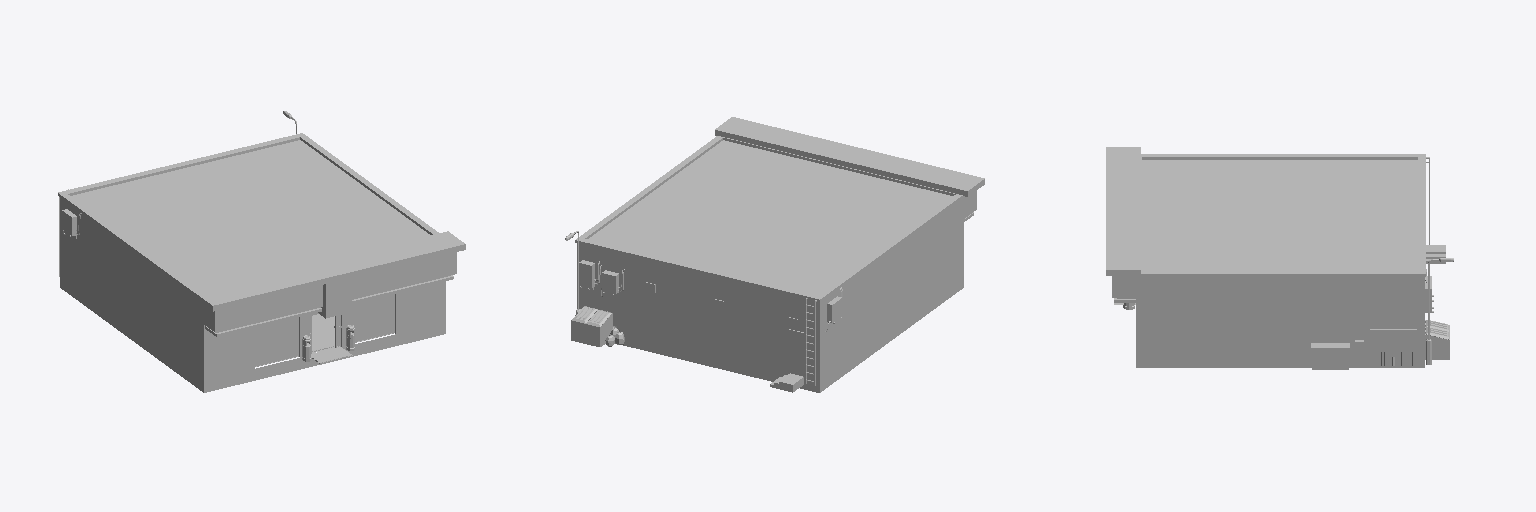
Rendered from Shop.obj.
3 renders of one model, left to right at view 1: azimuth 30°, elevation 25°; view 2: azimuth 150°, elevation 25°; view 3: azimuth 270°, elevation 25°, orthographic.
Parts seen in each view (by area): view 1: 6twelve_Concrete_0, 6twelve_Metal_02_0, 6twelve_Sign_0, Glasses_Glass_0, 6twelve_6twelve_0, Plane; view 2: 6twelve_Concrete_0, 6twelve_Metal_02_0, Dump_Metal_09_0; view 3: 6twelve_Concrete_0, 6twelve_Metal_02_0, 6twelve_Sign_0.
Part boxes in pixels (x1,y1,x2,y2): 6twelve_Concrete_0: (58, 111, 445, 392); 6twelve_Metal_02_0: (195, 231, 465, 336); 6twelve_Sign_0: (203, 252, 456, 332); Glasses_Glass_0: (255, 294, 393, 366); 6twelve_6twelve_0: (327, 279, 349, 316); Plane: (279, 314, 373, 361); 6twelve_Concrete_0: (565, 136, 964, 392); 6twelve_Metal_02_0: (715, 117, 984, 221); Dump_Metal_09_0: (571, 307, 612, 346); 6twelve_Concrete_0: (1134, 154, 1453, 369); 6twelve_Metal_02_0: (1106, 147, 1140, 302); 6twelve_Sign_0: (1112, 276, 1135, 297).
Bounding box in the file's own units: 15.68 × 6.23 × 18.15.